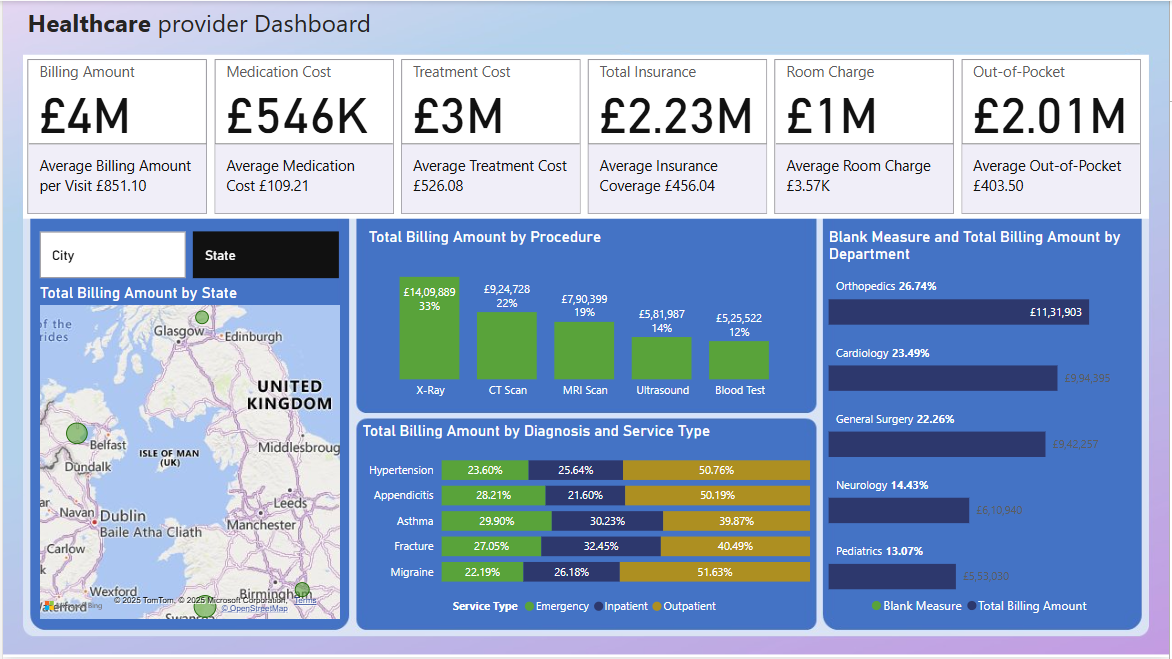

The page's visual inventory and layout, read from the dashboard file:
{"tool":"powerbi","page":{"name":"Page 1","canvas":[1280,720],"ordinal":0},"visuals":[{"type":"cardVisual","fields":{"Data":["DAX Calculations.Total Billing Amount","DAX Calculations.Total Medication Cost","DAX Calculations.Total Treatment Cost","DAX Calculations.Total Insurance Coverege","DAX Calculations.Total Room Charges","DAX Calculations.Out-of-Pocket"]},"box":[21.4,58.6,1235.7,180],"z":0},{"type":"map","fields":{"Category":["cities.State"],"Size":["DAX Calculations.Total Billing Amount"]},"box":[35.7,310,338.6,372.9],"z":1000},{"type":"advancedSlicerVisual","fields":{"Values":["Patients Location Switch.Patients Location Switch"]},"box":[35.7,248.6,338.6,61.4],"z":2000},{"type":"clusteredColumnChart","fields":{"Category":["procedures.Procedure"],"Y":["DAX Calculations.Total Billing Amount"]},"box":[397.1,248.6,485.7,197.1],"z":3000},{"type":"hundredPercentStackedBarChart","fields":{"Y":["DAX Calculations.Total Billing Amount"],"Category":["diagnoses.Diagnosis"],"Series":["visits.Service Type"]},"box":[390,461.4,501.4,221.4],"z":4000},{"type":"clusteredBarChart","fields":{"Category":["departments.Department"],"Y":["diagnoses.Blank Measure","DAX Calculations.Total Billing Amount"]},"box":[901.4,248.6,344.3,434.3],"z":5000},{"type":"textbox","box":[21.4,0,418.6,58.6],"z":5001}]}

Visuals, with their boxes in screenshot pixels (x1, y1, x2, y2), scaled from the page's 1280x720 canvas onto the 1172x659 screenshot:
cardVisual - DAX Calculations.Total Billing Amount x DAX Calculations.Total Medication Cost: Rect(20, 54, 1151, 218)
map - cities.State x DAX Calculations.Total Billing Amount: Rect(33, 284, 343, 625)
advancedSlicerVisual - Patients Location Switch.Patients Location Switch: Rect(33, 228, 343, 284)
clusteredColumnChart - procedures.Procedure x DAX Calculations.Total Billing Amount: Rect(364, 228, 808, 408)
hundredPercentStackedBarChart - DAX Calculations.Total Billing Amount x diagnoses.Diagnosis: Rect(357, 422, 816, 625)
clusteredBarChart - departments.Department x diagnoses.Blank Measure: Rect(825, 228, 1141, 625)
textbox: Rect(20, 0, 403, 54)
